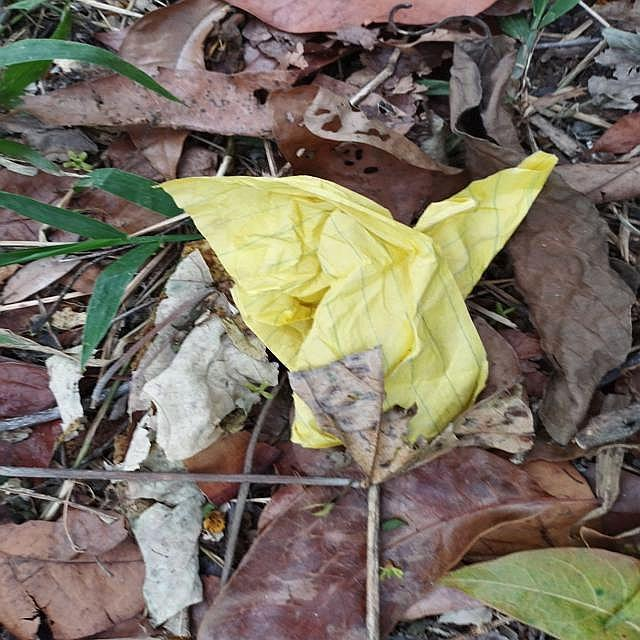Biodegradable: (157, 153, 562, 446)
